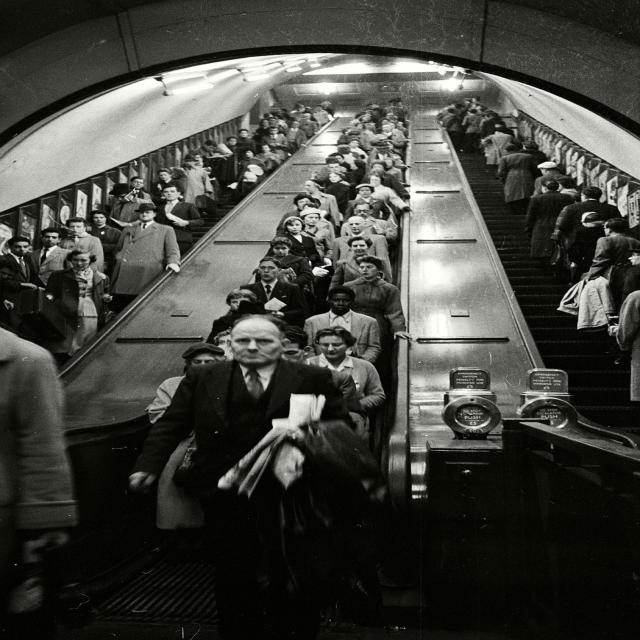body: (124, 311, 360, 639), (1, 363, 83, 624), (145, 343, 228, 531), (276, 324, 371, 440), (556, 216, 640, 332), (342, 255, 413, 391), (308, 99, 412, 184), (109, 202, 182, 318), (302, 325, 387, 411), (555, 185, 624, 288), (606, 239, 640, 441), (300, 285, 384, 364), (42, 247, 114, 333), (0, 259, 59, 362), (236, 256, 305, 331), (0, 234, 48, 334), (330, 214, 394, 284), (359, 160, 411, 240), (435, 94, 506, 152), (326, 234, 388, 300), (524, 181, 574, 259), (154, 184, 206, 256), (495, 140, 542, 218), (273, 215, 327, 278), (224, 98, 308, 138), (357, 174, 412, 235), (192, 138, 257, 189), (204, 287, 258, 345), (84, 209, 125, 284), (24, 226, 73, 288), (55, 216, 105, 274), (260, 236, 314, 286), (338, 200, 398, 244), (106, 182, 152, 230), (299, 208, 335, 266), (342, 183, 391, 223), (478, 126, 514, 180), (304, 178, 341, 228), (275, 193, 317, 237), (324, 172, 352, 238), (235, 146, 267, 202), (194, 152, 221, 200), (259, 126, 291, 163), (153, 167, 186, 199), (210, 329, 248, 352), (126, 175, 153, 204), (285, 120, 308, 154), (255, 144, 282, 169), (298, 196, 324, 214)
